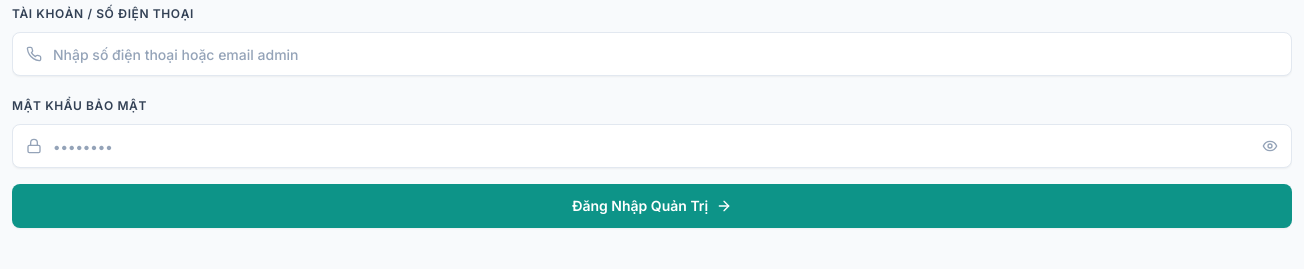
Test: LoginForm › displays validation error when phone format is invalid
Type "12345" into the field with placeholder "Nhập số điện thoại hoặc email admin". click: [652, 54]
box: [12,32,1292,76]
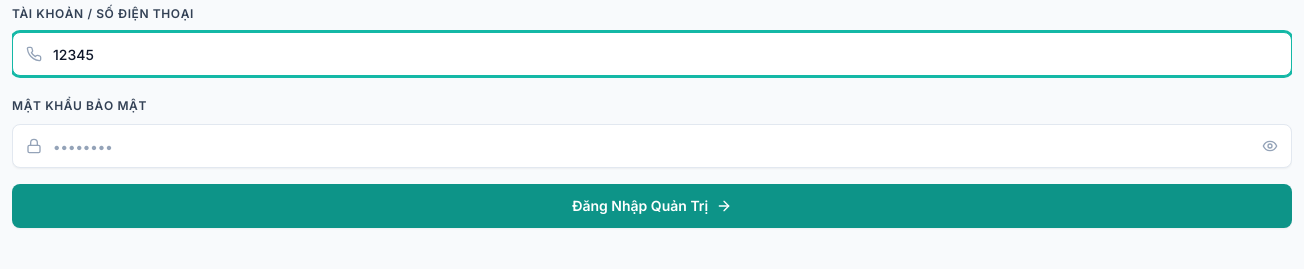
Type "adminPassword123" into the password field with placeholder "••••••••". click: [652, 146]
box: [12,124,1292,168]
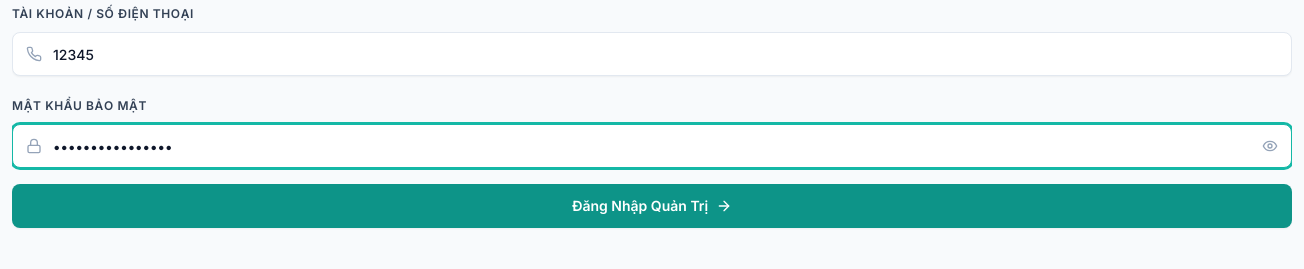
Click the button "Đăng Nhập Quản Trị". click: [652, 206]
box: [12,184,1292,228]
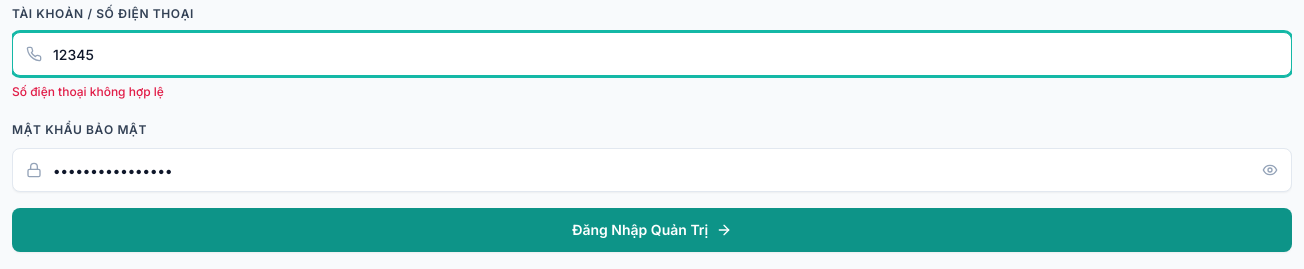
Result: the text "Số điện thoại không hợp lệ" is shown at [12,84,164,99]
